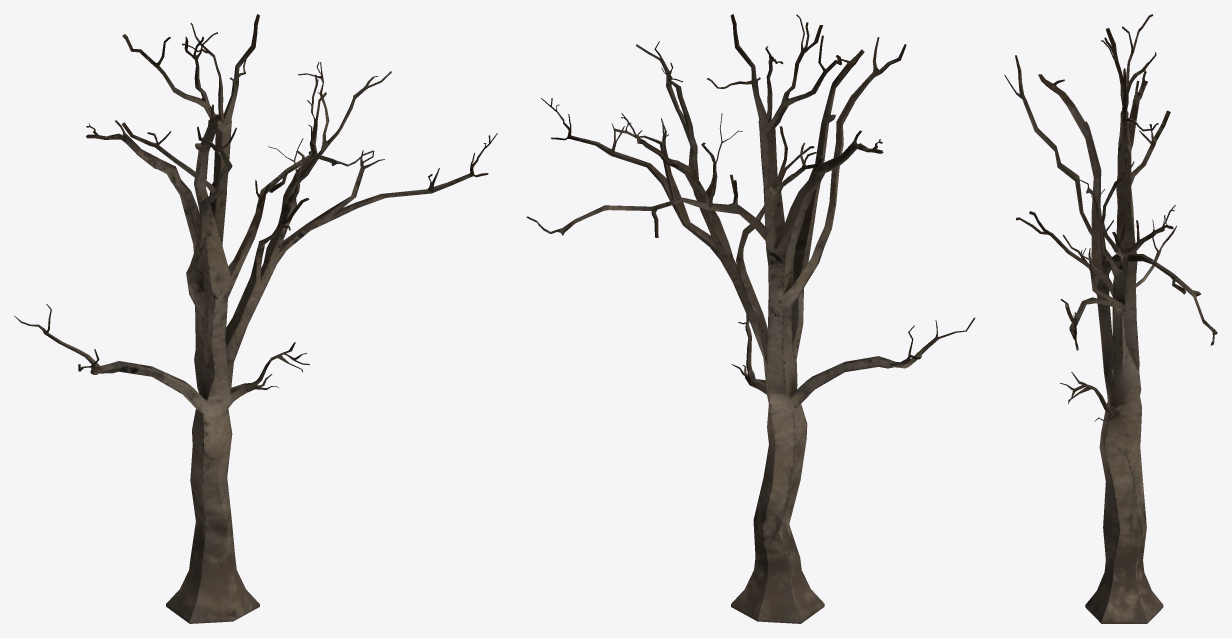
Rendered from Tree 1 .fbx.
The picture shows the model from 3 angles, left to right: view 1: azimuth 30°, elevation 25°; view 2: azimuth 150°, elevation 25°; view 3: azimuth 270°, elevation 25°; orthographic projection. The views are drawn at different scales.
Parts seen in each view (by area): view 1: Arvore.002; view 2: Arvore.002; view 3: Arvore.002.
Boxes of the visible parts, x1,y1,x2,y2 form: Arvore.002: (14, 14, 497, 623); Arvore.002: (526, 14, 975, 623); Arvore.002: (1004, 14, 1217, 623).
Size of the model in its own units: 525 by 679 by 233.
Materials: 1 (1 with a texture image).
